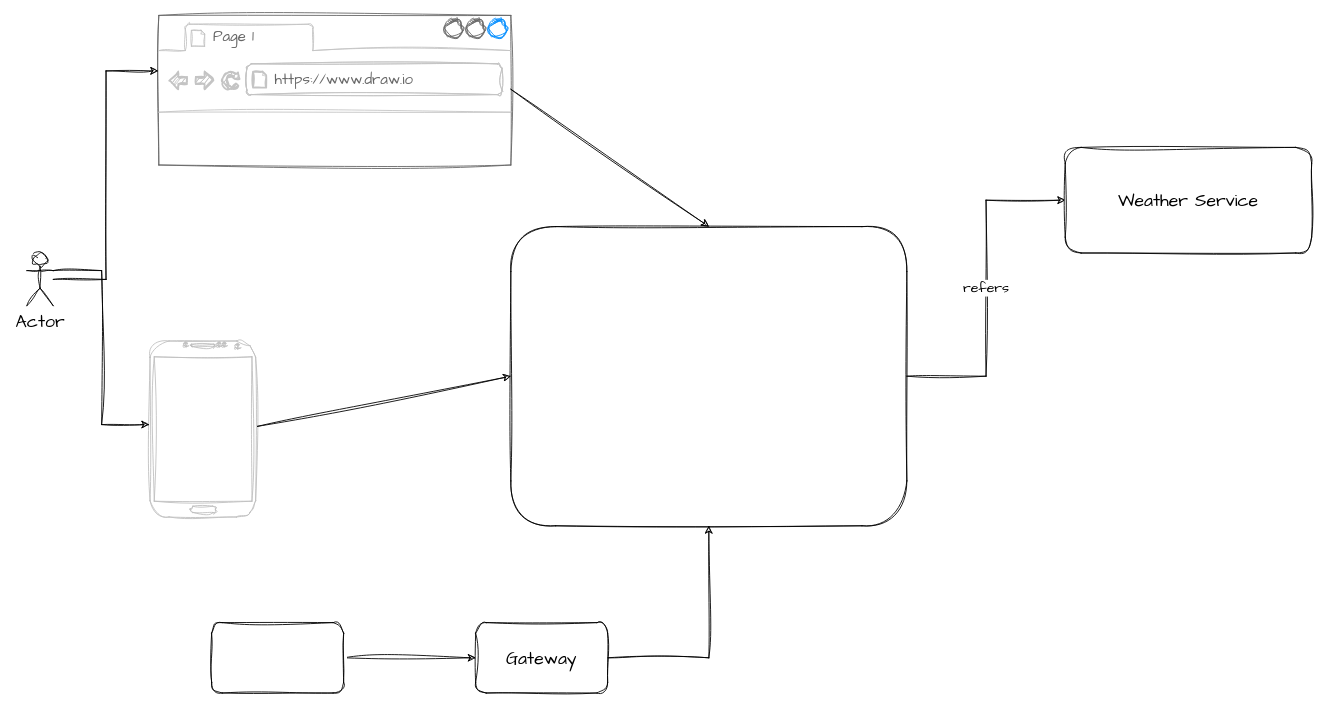
Some shapes in this 1327 by 708 pixel diagram are drawn without their labels. Each missing label, with the box of its shape:
Fish Watch System: (510, 226, 907, 526)
Sensor: (211, 622, 344, 693)
